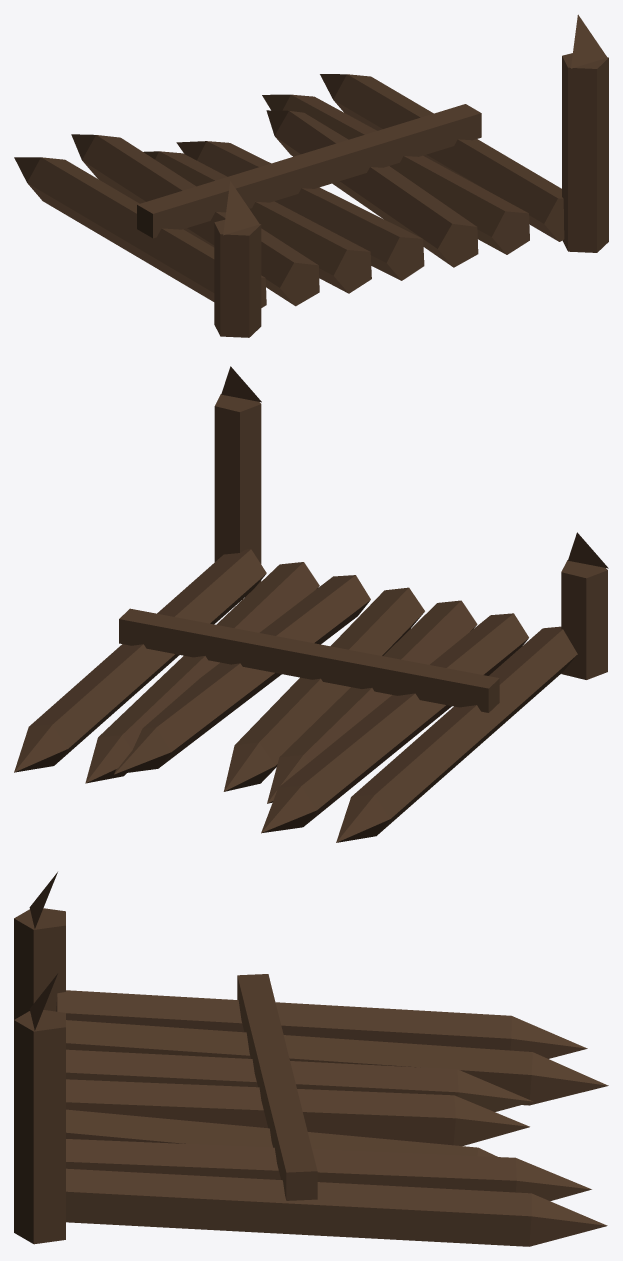
Rendered from palisade_fallen.glb.
3 renders of one model, top to bottom at view 1: azimuth 30°, elevation 25°; view 2: azimuth 150°, elevation 25°; view 3: azimuth 270°, elevation 25°, orthographic. The views are drawn at different scales.
Visible parts, largest first — view 1: Section; view 2: Section; view 3: Section.
Part boxes in pixels (x1,y1,x2,y2): Section: (14,14,608,337); Section: (14,366,608,842); Section: (14,872,608,1246).
Bounding box in the file's own units: 1.99 × 1.2 × 2.28.
